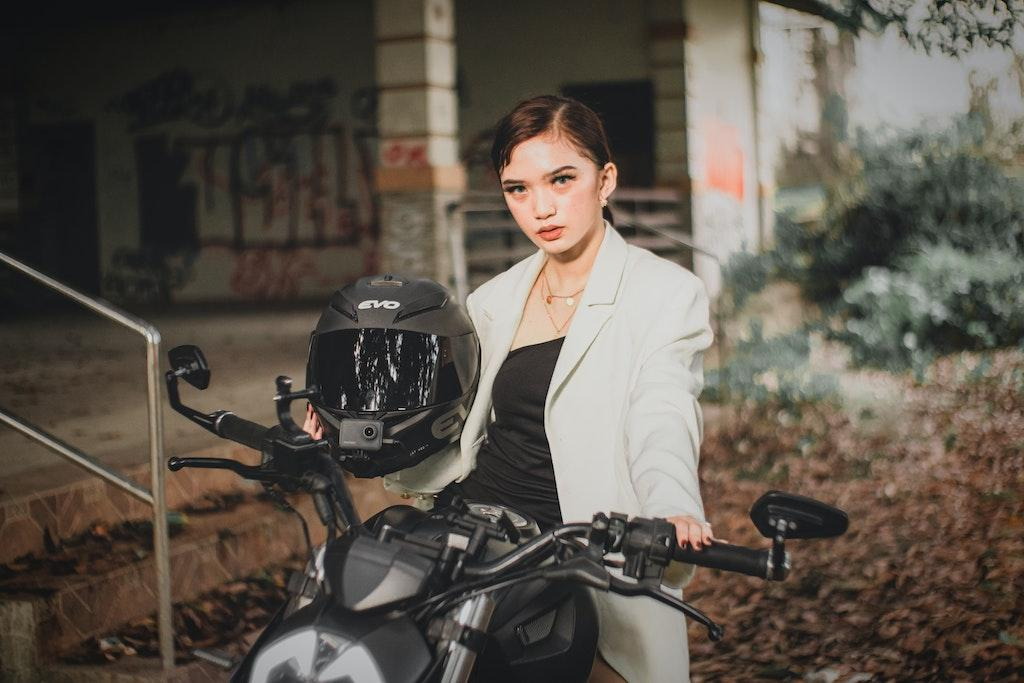helmet: (304, 271, 483, 481)
nohelmet: (490, 92, 619, 265)
